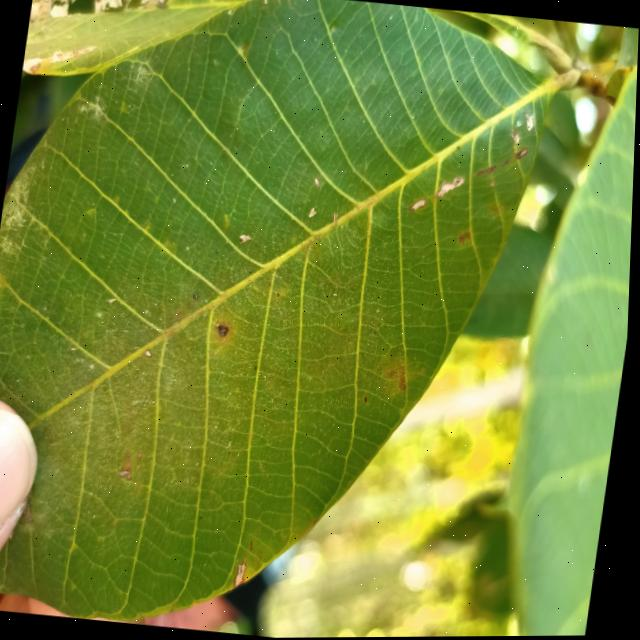Colletotrichum: (219, 325, 231, 336)
Leaf-Blight: (438, 176, 465, 199), (93, 0, 125, 14), (22, 55, 43, 75), (239, 555, 252, 586), (50, 2, 68, 17), (411, 197, 426, 211)
